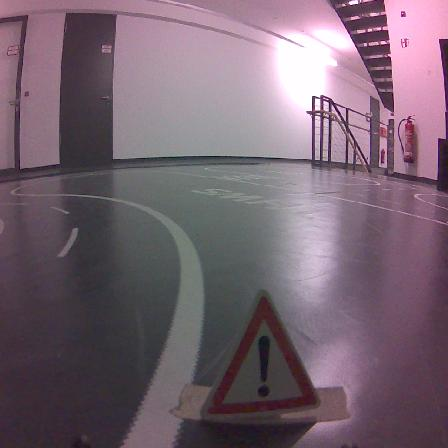ATTENTION: (201, 291, 318, 419)
